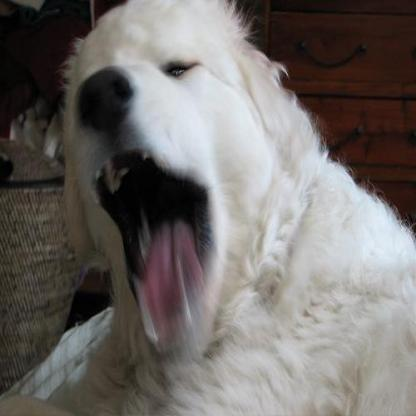kuvasz: (44, 0, 414, 414)
